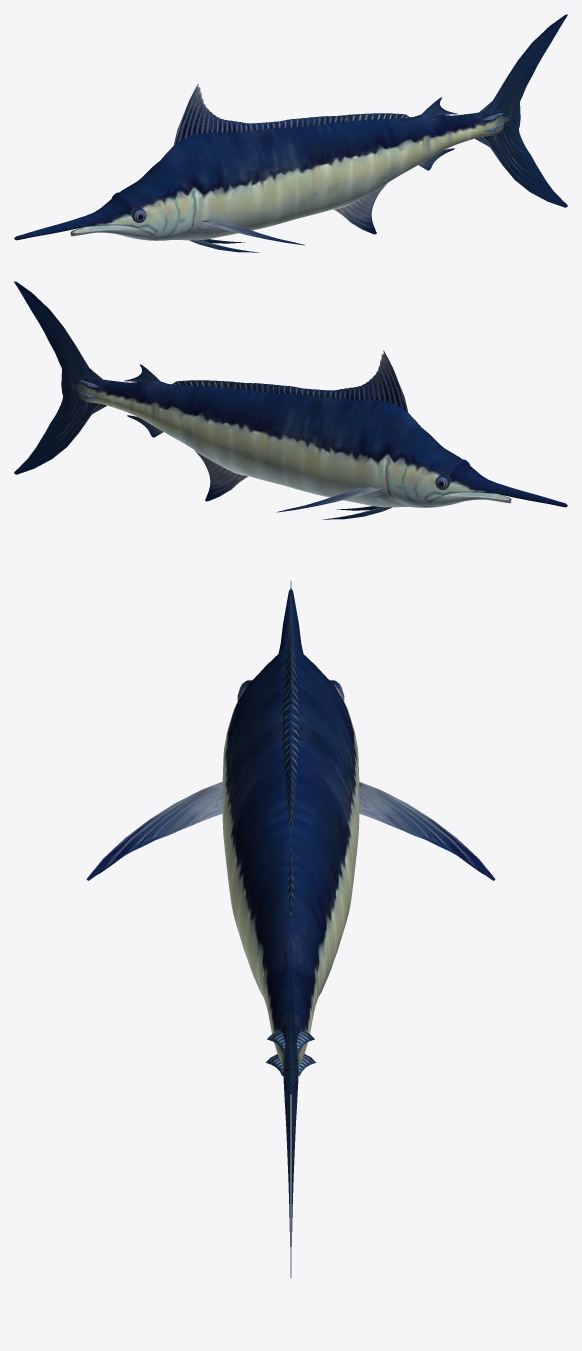
Rendered from swordfish.glb.
3 views of the same model, one above another, from view 1: azimuth 30°, elevation 25°; view 2: azimuth 150°, elevation 25°; view 3: azimuth 270°, elevation 25° (orthographic). The views are drawn at different scales.
Parts seen in each view (by area): view 1: Object_2; view 2: Object_2; view 3: Object_2.
Boxes of the visible parts, box(x1,y1,x2,y2) form: Object_2: box(14, 14, 567, 252); Object_2: box(14, 281, 567, 519); Object_2: box(86, 581, 495, 1277).
Bounding box in the file's own units: 4.55 × 1.68 × 1.45.
Materials: 1 (1 with a texture image).
